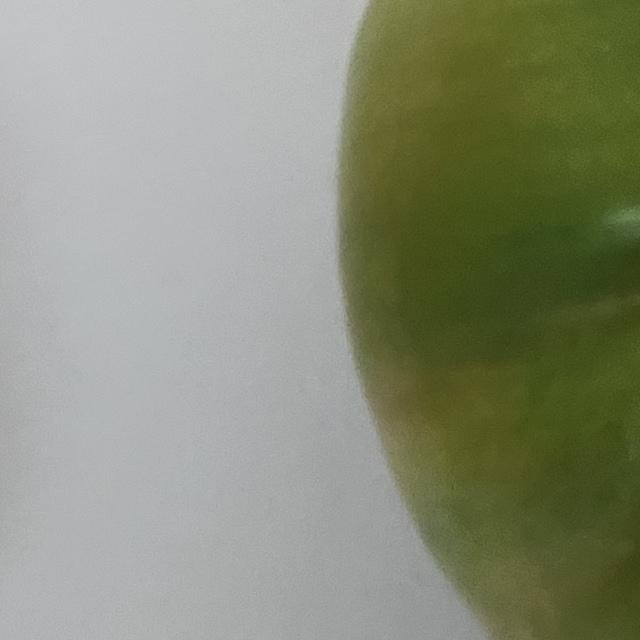tomato: (298, 0, 640, 640)
